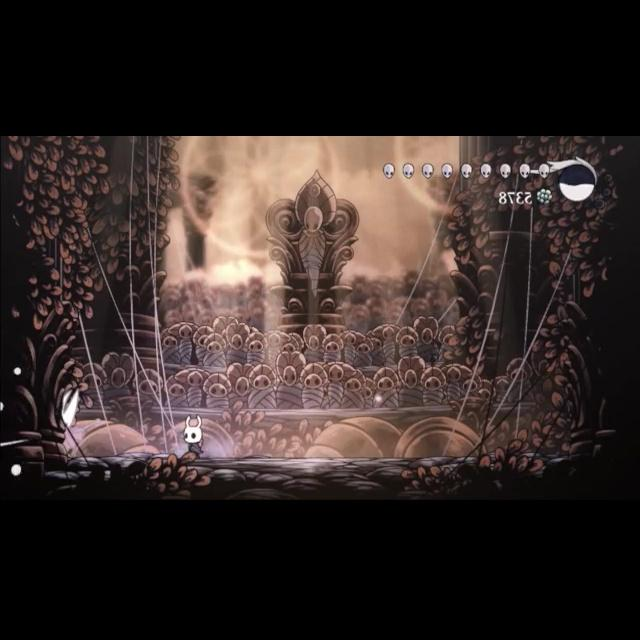EnemyDamaged: (35, 386, 101, 466)
Player: (178, 412, 210, 458)
